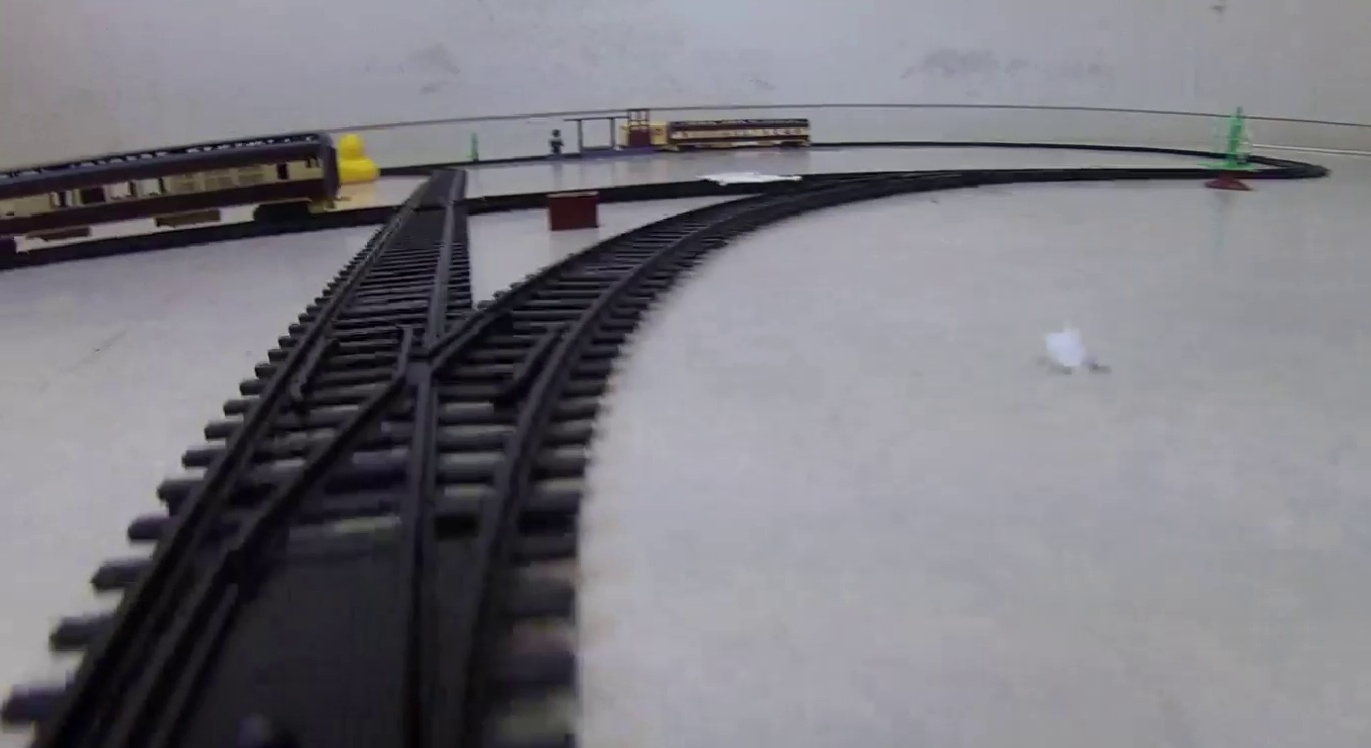box: (547, 189, 602, 233)
